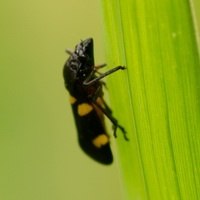insect: (63, 38, 127, 164)
